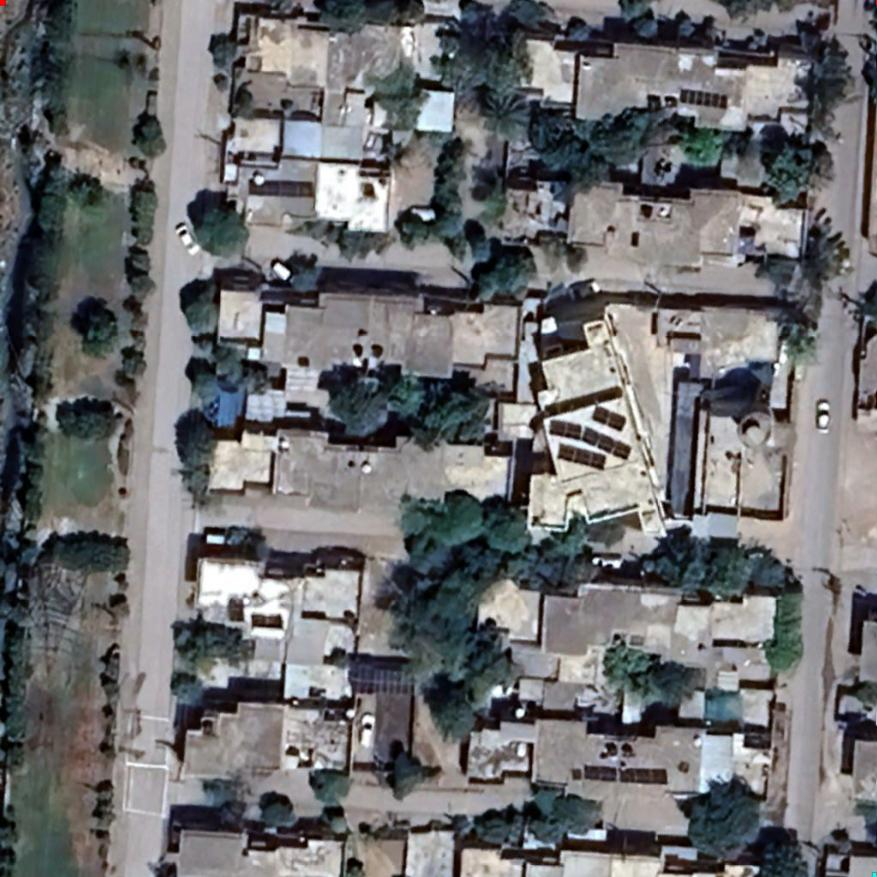Solarpanel: (542, 413, 638, 464), (549, 438, 612, 476), (580, 760, 668, 787), (348, 666, 418, 696), (676, 88, 732, 111), (588, 404, 628, 435)
